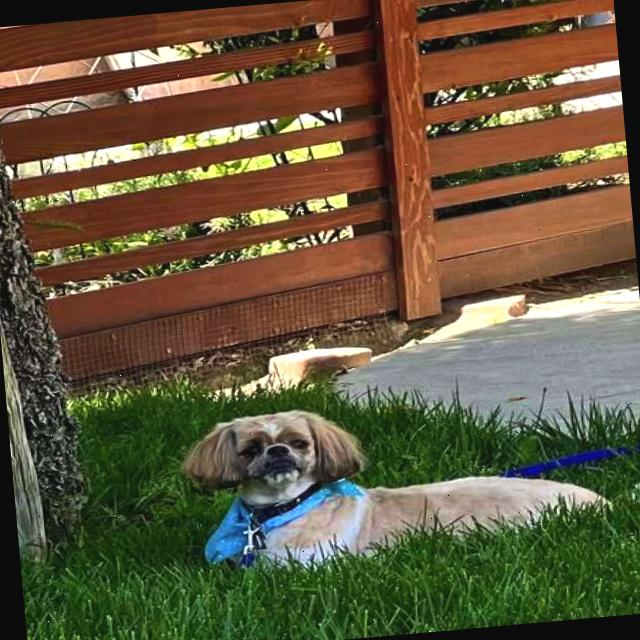shih_tzu_dog: (164, 398, 383, 517)
